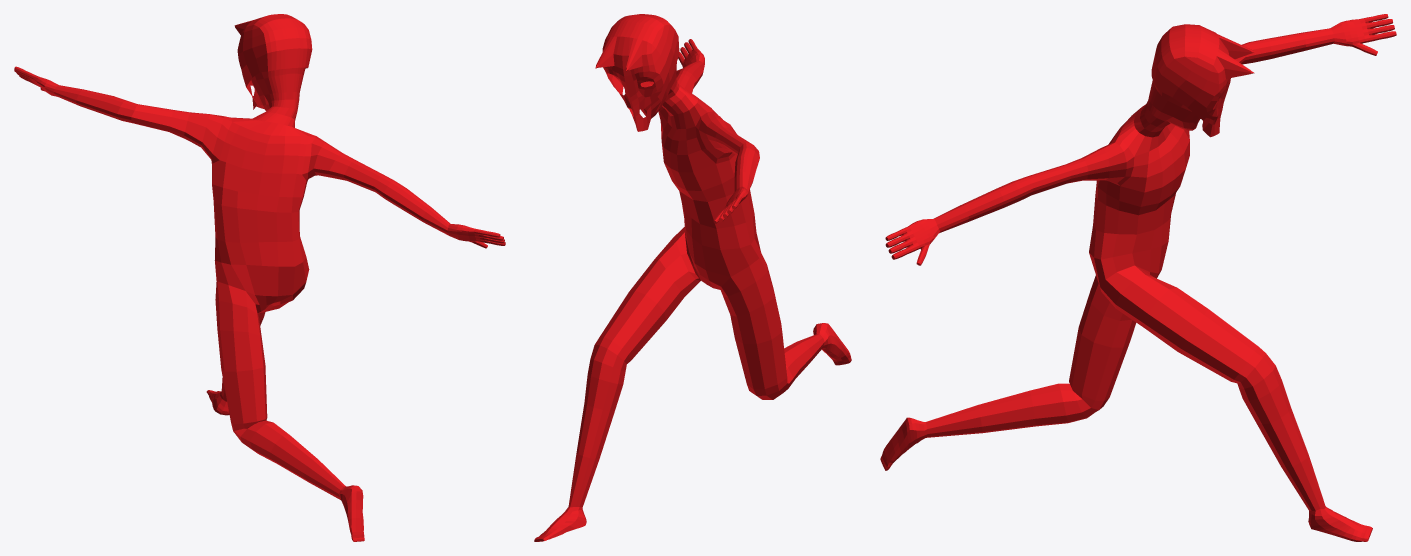
Rendered from saltoadelanteE_000116.obj.
The picture shows the model from 3 angles, left to right: view 1: azimuth 30°, elevation 25°; view 2: azimuth 150°, elevation 25°; view 3: azimuth 270°, elevation 25°; orthographic projection. The views are drawn at different scales.
Visible parts, largest first — view 1: Plane.002_Plane.001; view 2: Plane.002_Plane.001; view 3: Plane.002_Plane.001.
Part boxes in pixels (x1,y1,x2,y2): Plane.002_Plane.001: (14, 14, 505, 541); Plane.002_Plane.001: (534, 14, 851, 541); Plane.002_Plane.001: (880, 14, 1396, 541).
Size of the model in its own units: 3.84 by 5.94 by 5.56.
